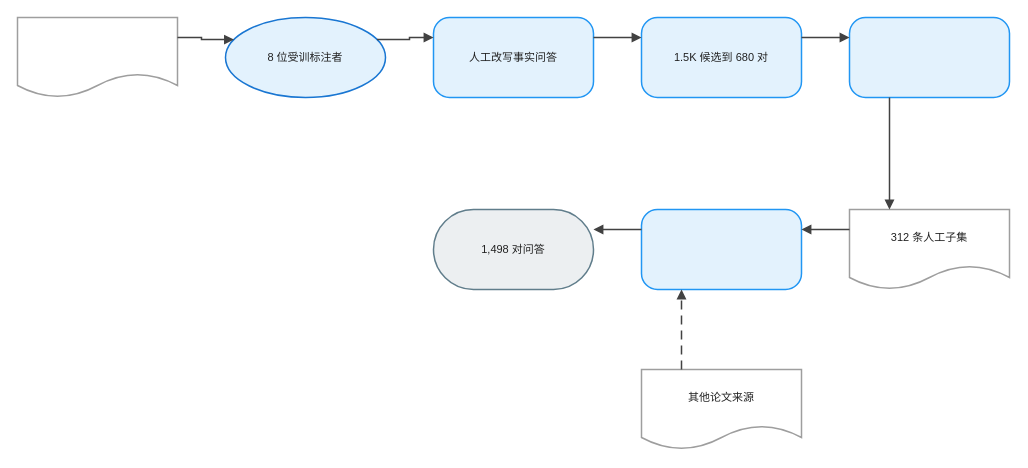
Some shapes in this 1028 by 468 pixel diagram are drawn without their labels. Here are the shapes that lost their labels. From the top down, the centre of each, then its label:
At pixel 97 57: "双语代码文档".
At pixel 929 57: "高级工程师复核与共识".
At pixel 721 249: "双语评测集汇编".
